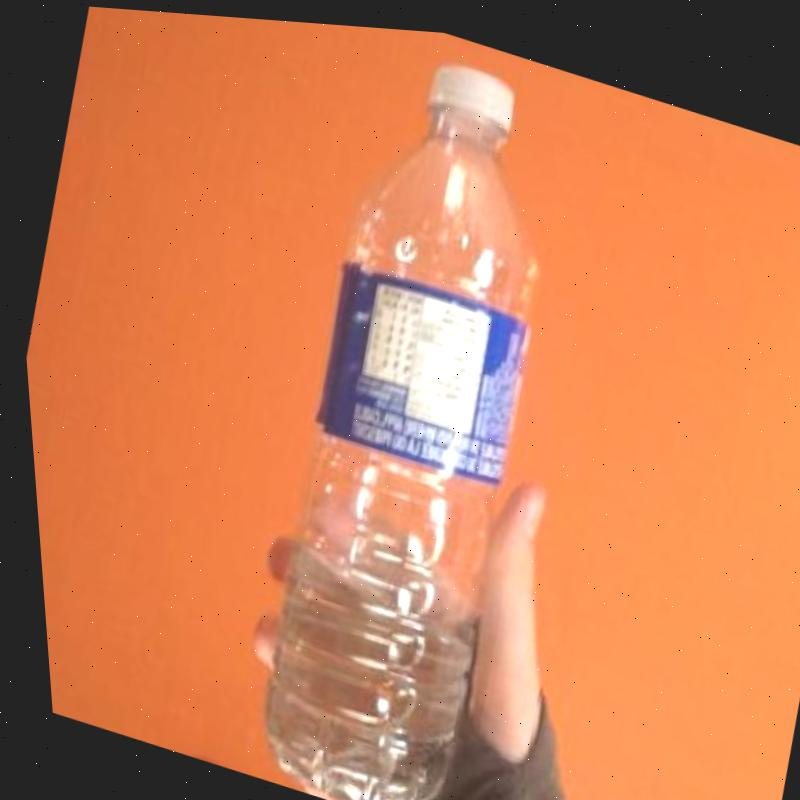botella: (190, 16, 622, 800)
